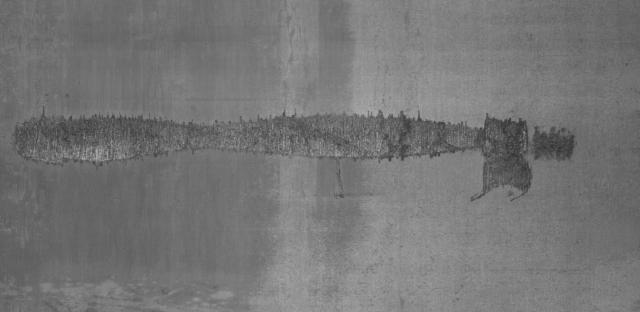rolled_pit: (7, 95, 586, 208)
